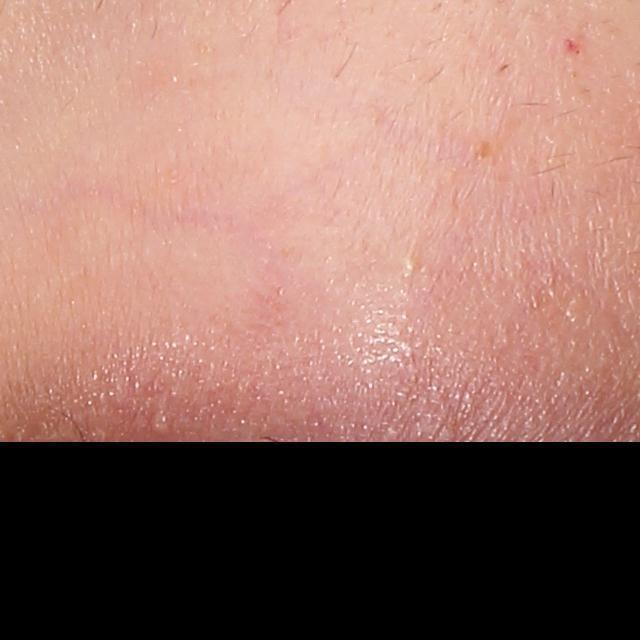comedo: (398, 257, 419, 277)
